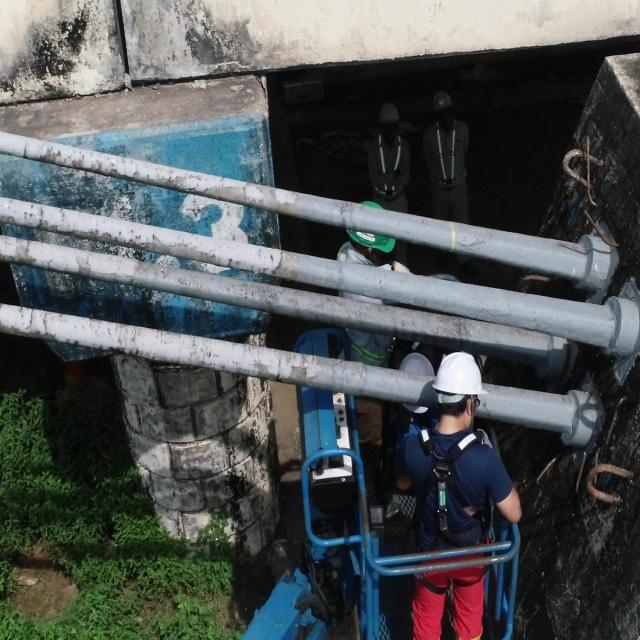crack: (26, 309, 34, 330), (349, 202, 353, 228), (42, 314, 48, 331), (132, 328, 137, 342), (277, 359, 281, 375), (24, 145, 27, 158), (192, 336, 195, 347), (203, 351, 206, 359), (252, 370, 255, 376), (90, 320, 92, 328), (116, 323, 118, 331), (178, 357, 180, 364)
